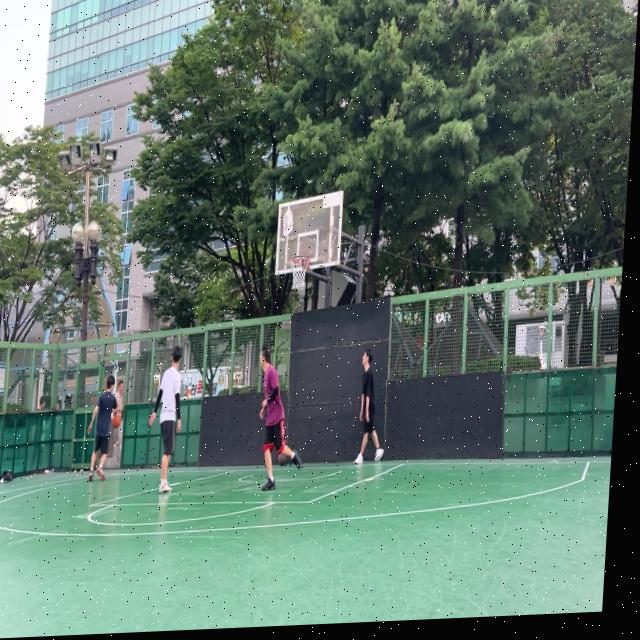basketball: (112, 414, 121, 428), (278, 453, 287, 466)
hoop: (289, 255, 310, 292)
